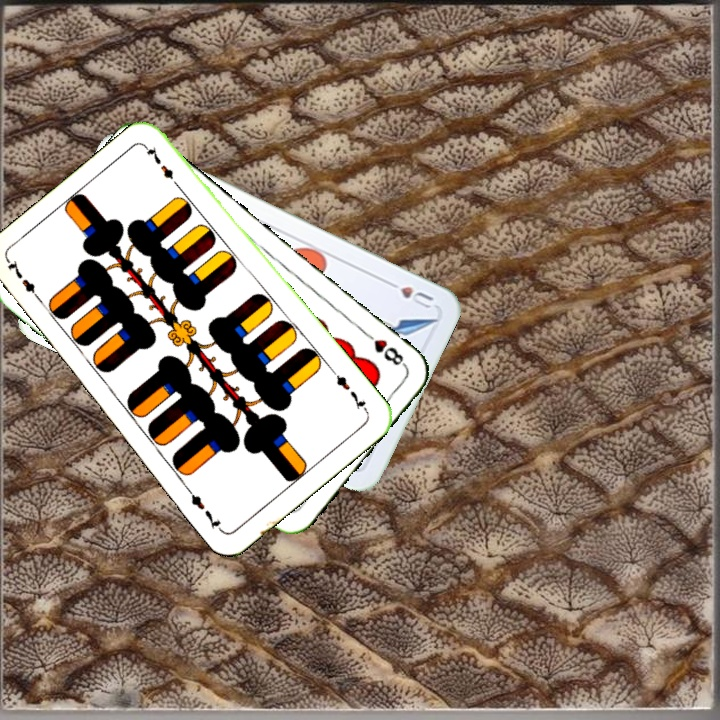E7: (3, 256, 46, 307), (328, 366, 371, 415)
H8: (359, 327, 409, 370)
HU: (381, 276, 436, 311)
